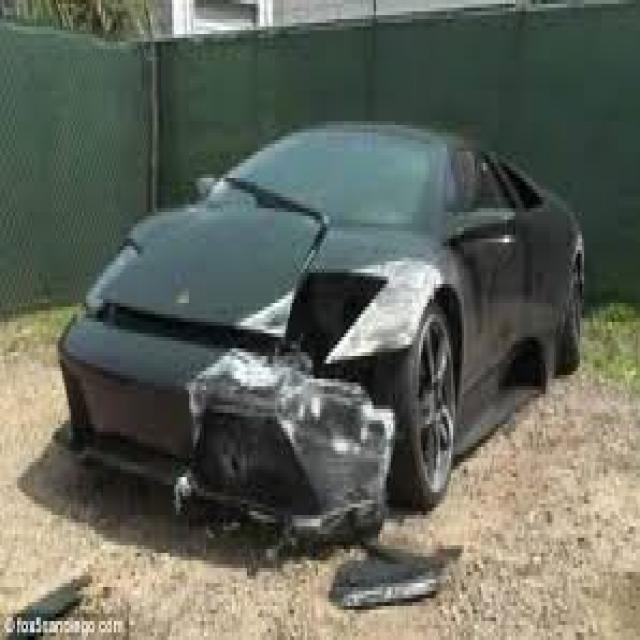moderate: (169, 238, 486, 640)
